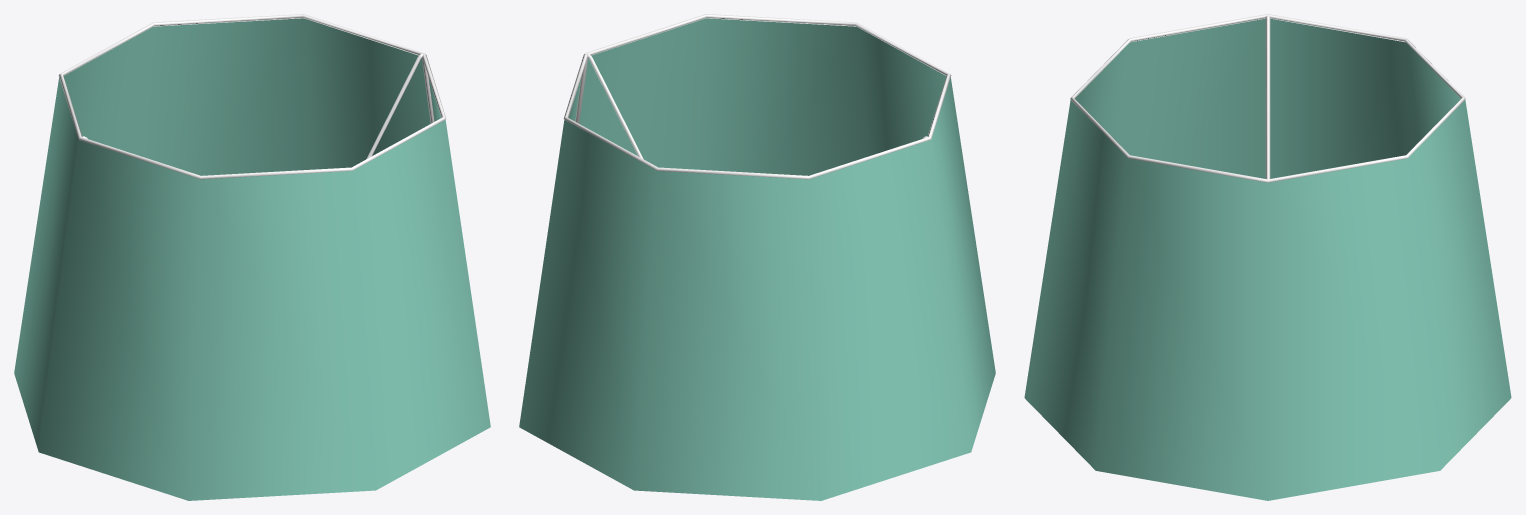
File: Lamp_Hood.fbx
3 renders of one model, left to right at view 1: azimuth 30°, elevation 25°; view 2: azimuth 150°, elevation 25°; view 3: azimuth 270°, elevation 25°, orthographic.
Parts seen in each view (by area): view 1: Hood Fabric, Hood Ring Upper, Hood Support; view 2: Hood Fabric, Hood Ring Upper, Hood Support; view 3: Hood Fabric, Hood Ring Upper, Hood Support.
Boxes of the visible parts, x1=… form: Hood Fabric: x1=14, y1=18, x2=490, y2=500; Hood Ring Upper: x1=58, y1=14, x2=446, y2=179; Hood Support: x1=82, y1=53, x2=434, y2=158; Hood Fabric: x1=519, y1=18, x2=995, y2=500; Hood Ring Upper: x1=563, y1=14, x2=951, y2=179; Hood Support: x1=575, y1=53, x2=927, y2=158; Hood Fabric: x1=1024, y1=18, x2=1511, y2=500; Hood Ring Upper: x1=1070, y1=14, x2=1465, y2=182; Hood Support: x1=1265, y1=15, x2=1270, y2=179.
Size of the model in its own units: 208 by 148 by 208.
